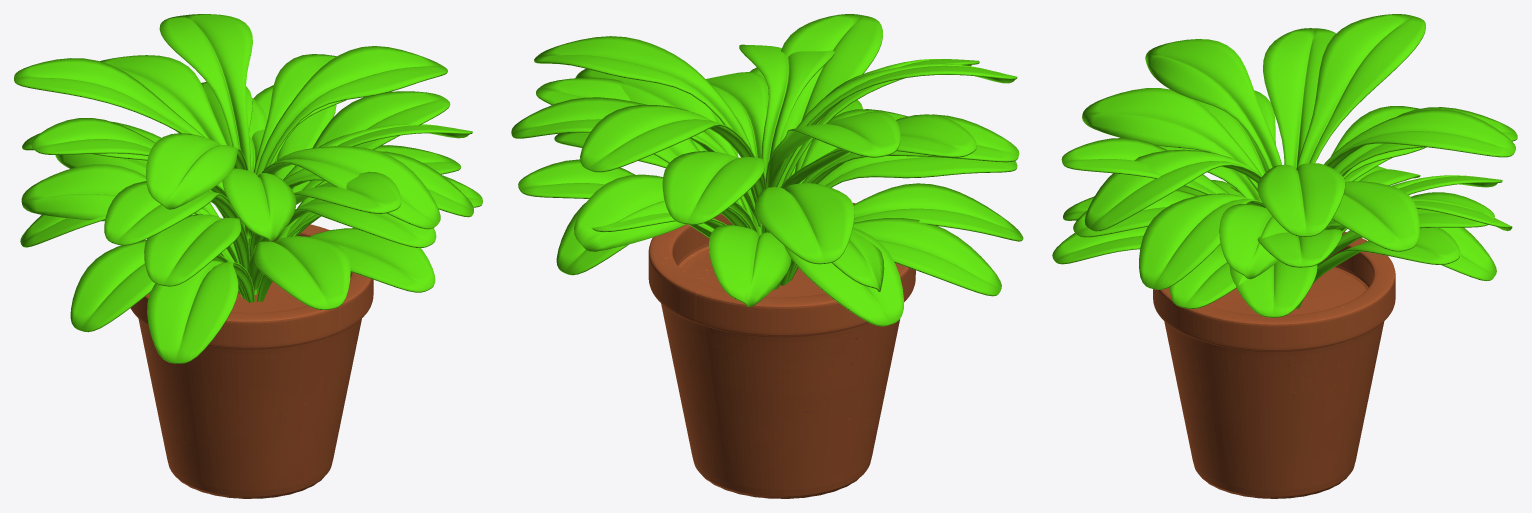
Rendered from flower pot2.fbx.
The picture shows the model from 3 angles, left to right: view 1: azimuth 30°, elevation 25°; view 2: azimuth 150°, elevation 25°; view 3: azimuth 270°, elevation 25°; orthographic projection. The views are drawn at different scales.
Parts seen in each view (by area): view 1: Leafy Plant, Plant1.005, Plant1, Plant1.004, Plant1.002, Plant1.001, Plant1.003; view 2: Leafy Plant, Plant1.005, Plant1.003, Plant1.004, Plant1.002, Plant1.001, Plant1; view 3: Leafy Plant, Plant1.005, Plant1.004, Plant1.003, Plant1, Plant1.001, Plant1.002.
Boxes of the visible parts, x1,y1,x2,y2 form: Leafy Plant: (130,224,373,498); Plant1.005: (14,14,447,229); Plant1: (21,85,461,363); Plant1.004: (31,54,473,241); Plant1.002: (20,82,450,286); Plant1.001: (55,85,482,332); Plant1.003: (22,121,472,257); Leafy Plant: (648,202,915,498); Plant1.005: (534,36,1017,187); Plant1.003: (556,14,1019,275); Plant1.004: (511,59,979,227); Plant1.002: (536,67,1017,326); Plant1.001: (518,109,1001,306); Plant1: (554,100,1023,291); Leafy Plant: (1153,232,1395,498); Plant1.005: (1084,14,1515,236); Plant1.004: (1082,28,1517,289); Plant1.003: (1061,90,1496,281); Plant1: (1052,157,1494,317); Plant1.001: (1063,175,1502,308); Plant1.002: (1073,146,1512,267).
Size of the model in its own units: 28.37 by 25.47 by 28.67.
2 materials, 1 textured.
